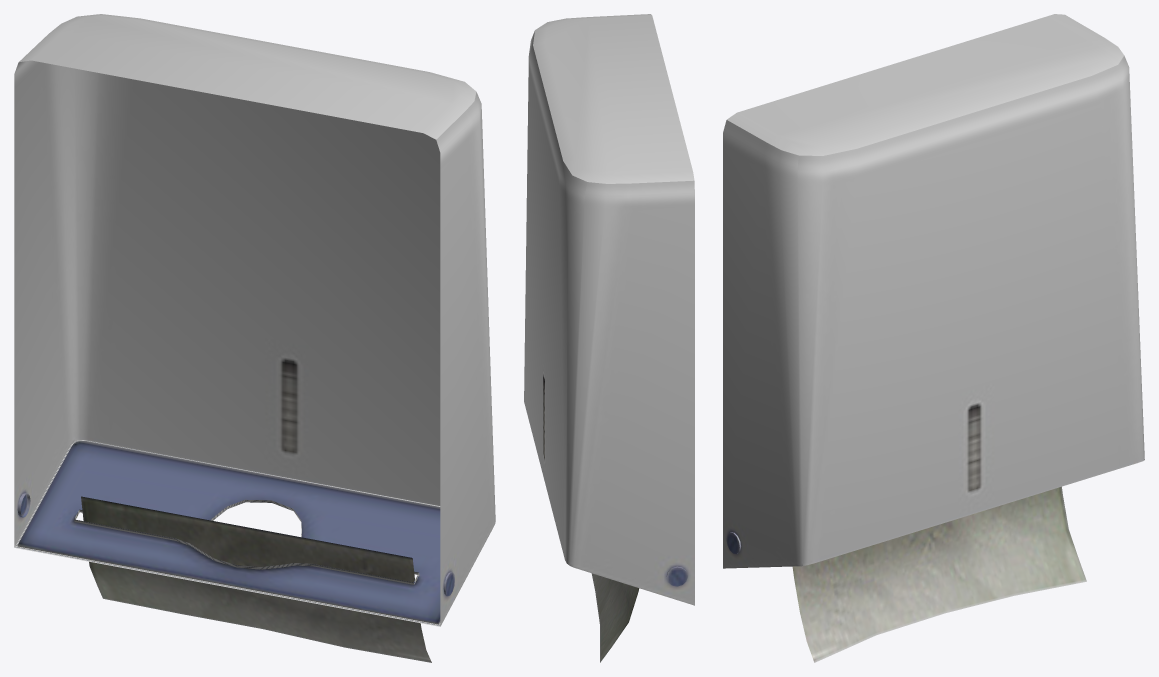
File: seche_main.FBX
3 views of the same model, side by side, from view 1: azimuth 30°, elevation 25°; view 2: azimuth 150°, elevation 25°; view 3: azimuth 270°, elevation 25° (orthographic). The views are drawn at different scales.
Visible parts, largest first — view 1: Obj-distri-essui-main_01; view 2: Obj-distri-essui-main_01; view 3: Obj-distri-essui-main_01.
Part boxes in pixels (box(x1,y1,x2,y2)): Obj-distri-essui-main_01: box(14, 14, 495, 662); Obj-distri-essui-main_01: box(524, 14, 694, 662); Obj-distri-essui-main_01: box(723, 14, 1144, 662).
Bounding box in the file's own units: 8.92 × 14.48 × 10.49.
